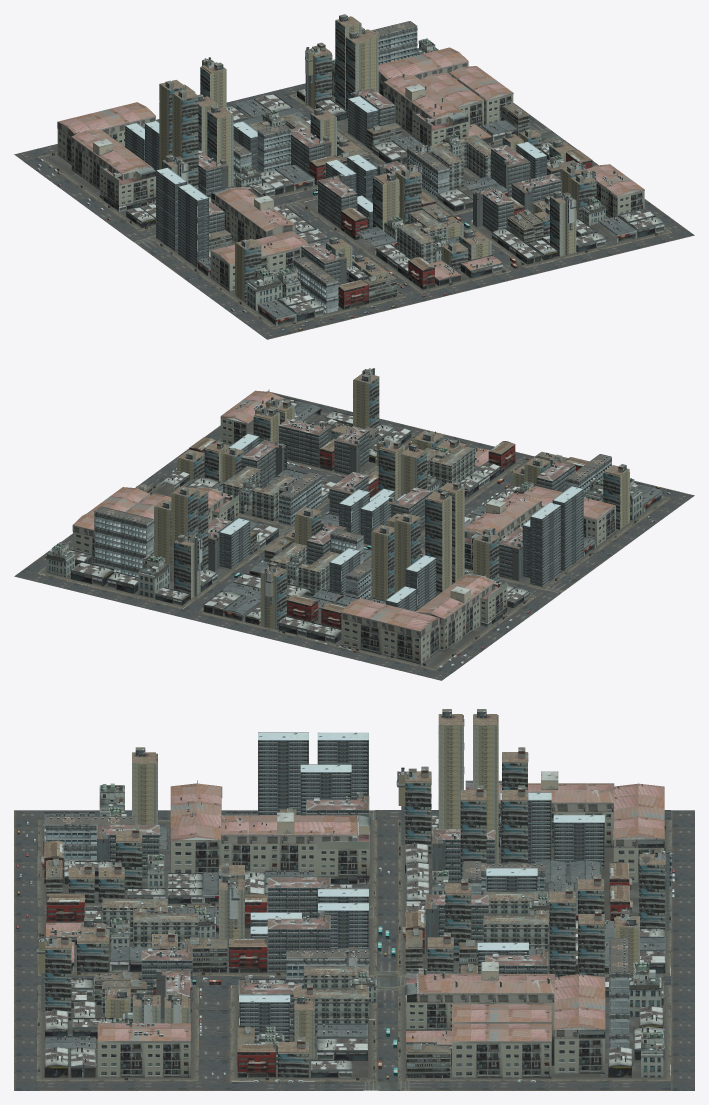
File: drone.glb
3 views of the same model, one above another, from view 1: azimuth 30°, elevation 25°; view 2: azimuth 150°, elevation 25°; view 3: azimuth 270°, elevation 25° (orthographic). The views are drawn at different scales.
Visible parts, largest first — view 1: ortoedificio-frontal-frontal.004, ortoedificio-frontal-frontal, ortoedificio-frontal-frontal.001, ciudadortogonal-CALLE2mod.010, ortoedificiotechoceleste -COMPLETO.006, orto-edificio22-completo.035, ortoedificio-frontal-frontal.002, ortoedificiotechoceleste -COMPLETO.008, ortoedificio-frontal-frontal.003, ciudadortogonal-CALLE2mod.017, hospitalcompleto.005, hospitalcompleto.006 (+59 smaller); view 2: ortoedificio-frontal-frontal.004, ortoedificio-frontal-frontal.001, ciudadortogonal-CALLE2mod.014, hospitalcompleto.006, ortoedificiotechoceleste -COMPLETO.008, orto-edificio22-completo.033, ortoedificiotechoceleste -COMPLETO.006, ortoedificiocontechorojo-.009, ortoedificio-frontal-frontal, ciudadortogonal-CALLE2mod.017, orto-edificio22-completo.012, orto-edificio22-completo.031 (+59 smaller); view 3: ortoedificio-frontal-frontal.001, ortoedificio-frontal-frontal, ortoedificio-frontal-frontal.004, ciudadortogonal-CALLE2mod.014, ciudadortogonal-CALLE2mod.010, ortoedificio-frontal-frontal.003, ortoedificio-frontal-frontal.002, ortoedificiotechoceleste -COMPLETO.006, ciudadortogonal-CALLE2mod.009, ciudadortogonal-CALLE2mod.007, ciudadortogonal-CALLE2mod.003, orto-edificio22-completo.035 (+94 smaller).
Boxes of the visible parts, x1,y1,x2,y2 form: ortoedificio-frontal-frontal.004: (57, 102, 156, 211); ortoedificio-frontal-frontal: (378, 47, 468, 145); ortoedificio-frontal-frontal.001: (210, 184, 308, 291); ciudadortogonal-CALLE2mod.010: (259, 229, 694, 339); ortoedificiotechoceleste -COMPLETO.006: (178, 184, 208, 267); orto-edificio22-completo.035: (172, 93, 198, 189); ortoedificio-frontal-frontal.002: (586, 164, 644, 217); ortoedificiotechoceleste -COMPLETO.008: (156, 167, 186, 251); ortoedificio-frontal-frontal.003: (449, 66, 513, 124); ciudadortogonal-CALLE2mod.017: (23, 157, 147, 241); hospitalcompleto.005: (293, 256, 339, 313); hospitalcompleto.006: (370, 21, 417, 64); ortoedificio-frontal-frontal.004: (341, 572, 507, 664); ortoedificio-frontal-frontal.001: (464, 486, 615, 569); ciudadortogonal-CALLE2mod.014: (14, 570, 449, 680); hospitalcompleto.006: (94, 506, 154, 576); ortoedificiotechoceleste -COMPLETO.008: (530, 502, 561, 586); orto-edificio22-completo.033: (425, 497, 451, 595); ortoedificiotechoceleste -COMPLETO.006: (552, 486, 583, 570); ortoedificiocontechorojo-.009: (278, 419, 331, 467); ortoedificio-frontal-frontal: (72, 485, 238, 562); ciudadortogonal-CALLE2mod.017: (435, 590, 559, 674); orto-edificio22-completo.012: (371, 525, 394, 600); orto-edificio22-completo.031: (394, 513, 420, 593); ortoedificio-frontal-frontal.001: (170, 780, 370, 883); ortoedificio-frontal-frontal: (405, 962, 605, 1073); ortoedificio-frontal-frontal.004: (465, 771, 664, 883); ciudadortogonal-CALLE2mod.014: (671, 810, 694, 1090); ciudadortogonal-CALLE2mod.010: (14, 810, 37, 1090); ortoedificio-frontal-frontal.003: (452, 1023, 551, 1078); ortoedificio-frontal-frontal.002: (97, 1023, 190, 1077); ortoedificiotechoceleste -COMPLETO.006: (258, 732, 308, 815); ciudadortogonal-CALLE2mod.009: (197, 985, 231, 1084); ciudadortogonal-CALLE2mod.007: (231, 1081, 543, 1090); ciudadortogonal-CALLE2mod.003: (376, 820, 398, 938); orto-edificio22-completo.035: (438, 715, 464, 829).
Bounding box in the file's own units: 52.68 × 14.23 × 54.01.
Materials: 51 (50 with a texture image).
